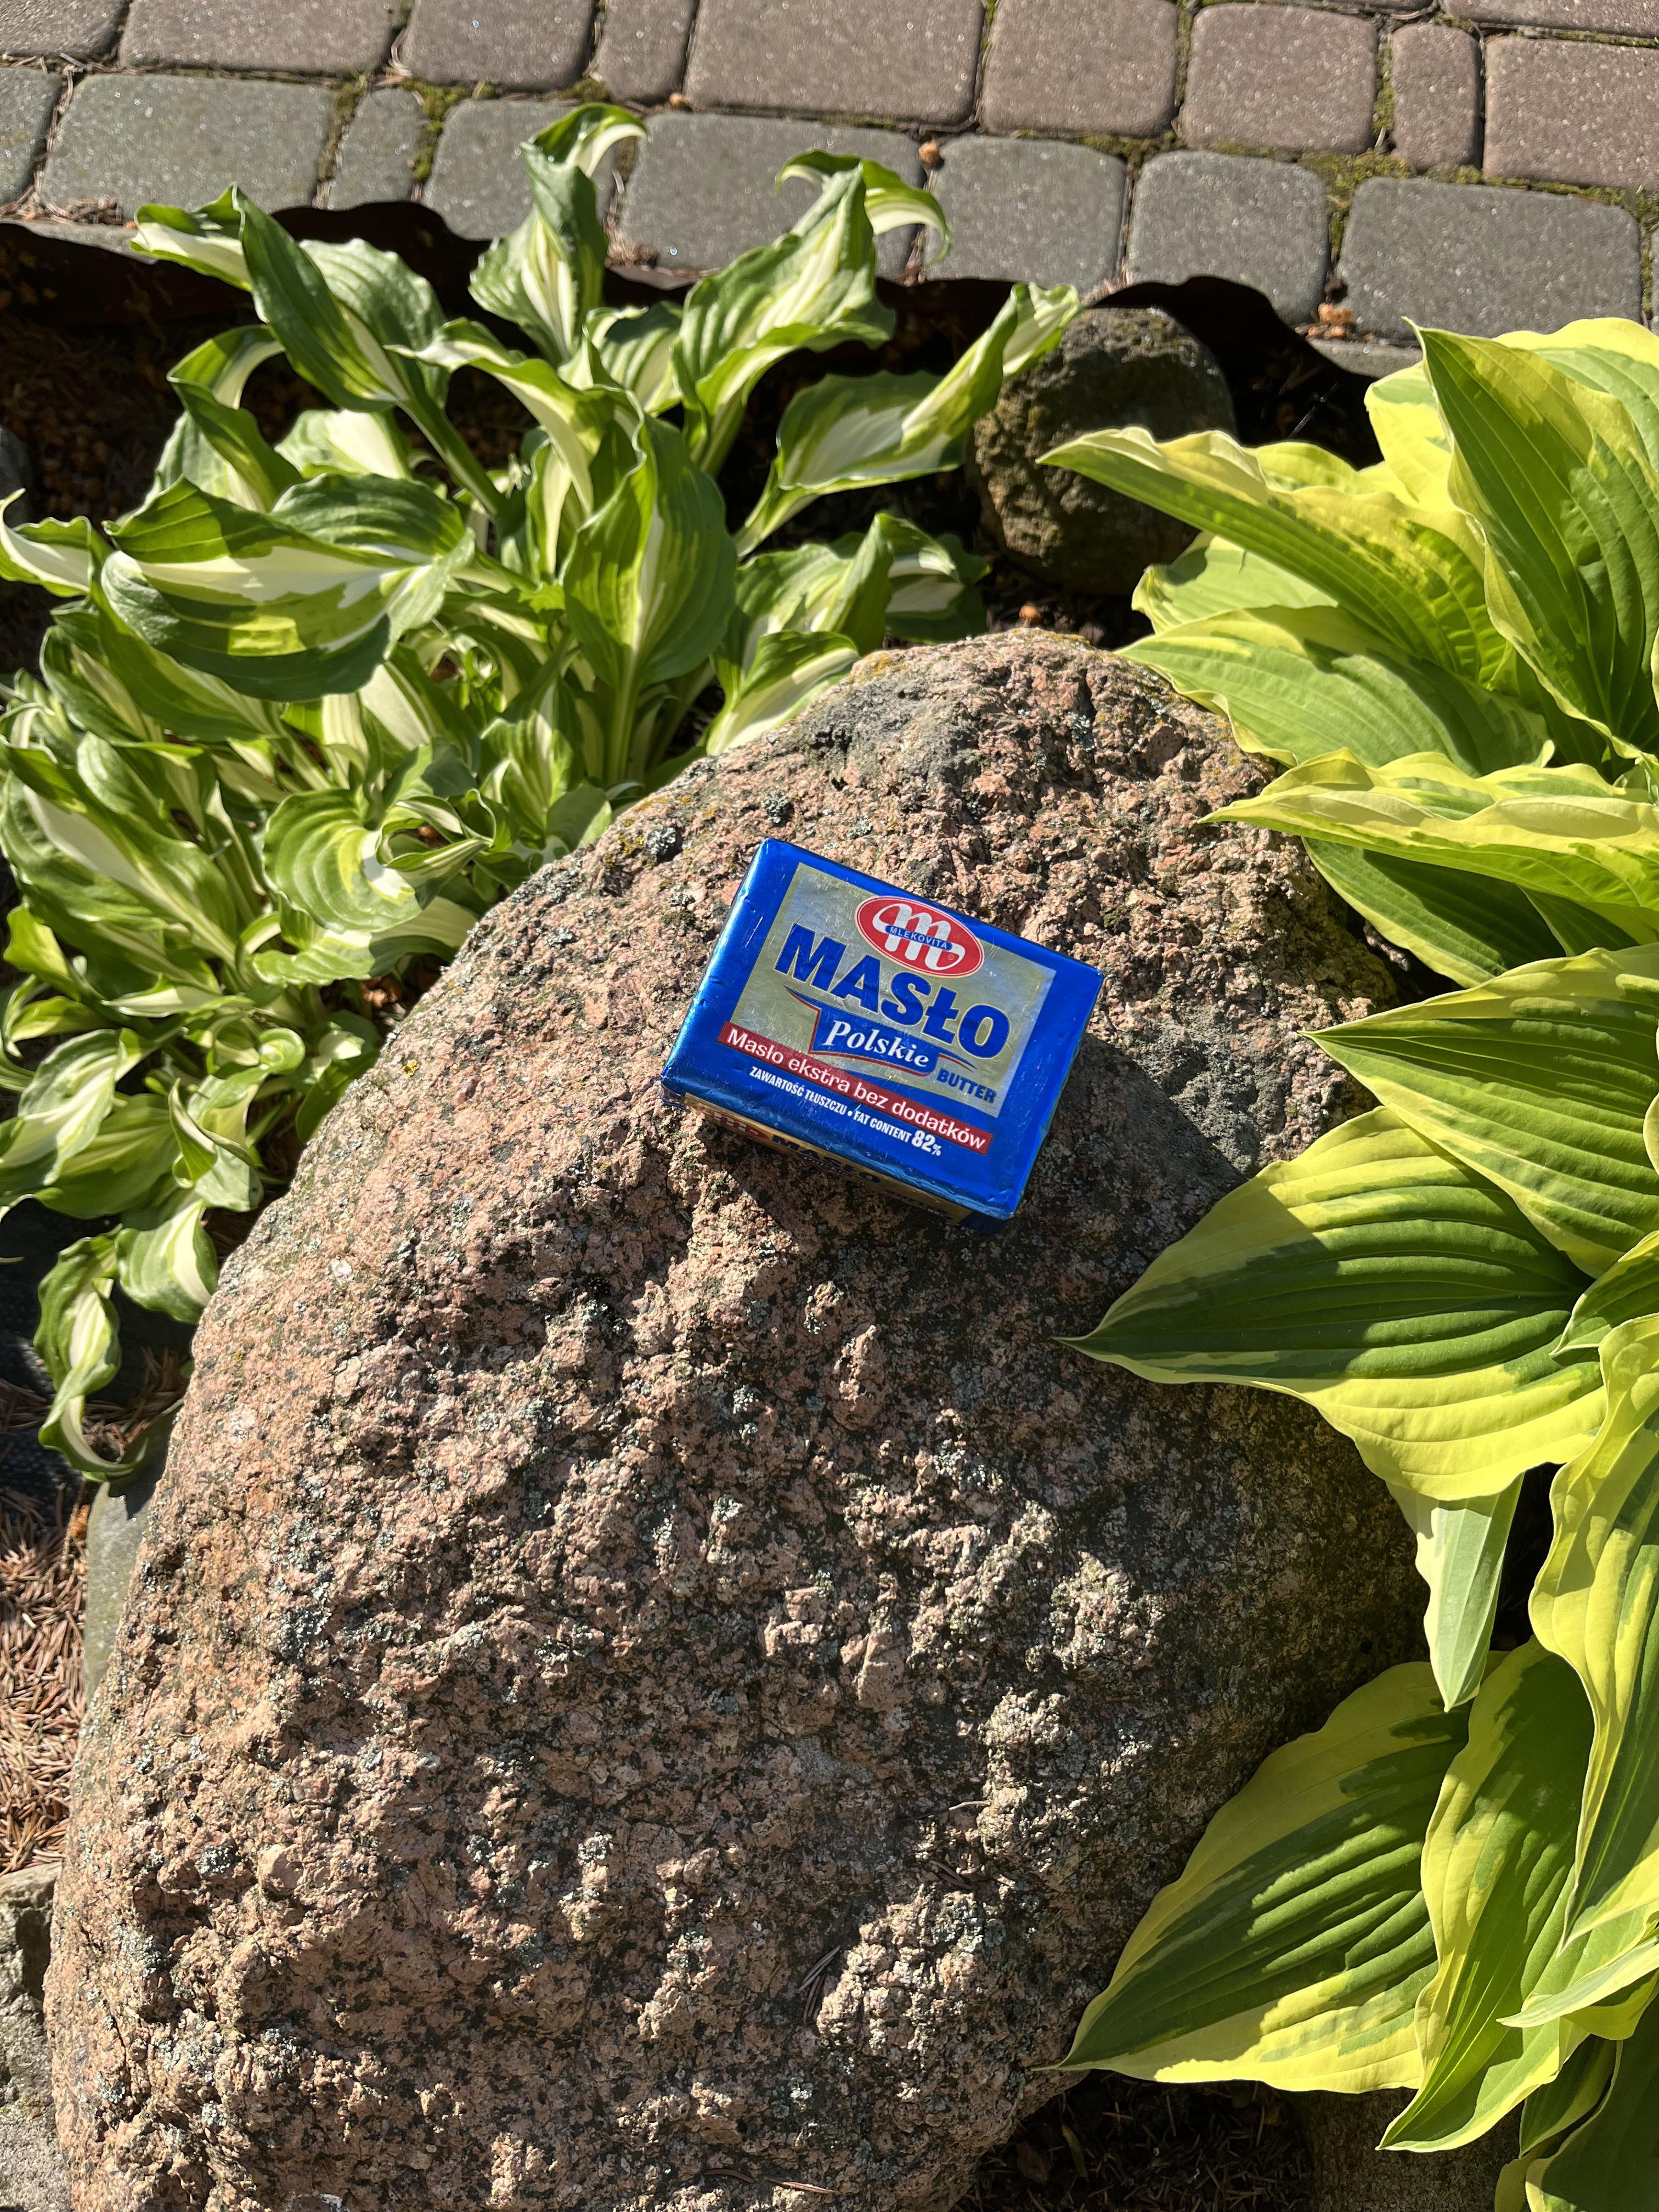Butter: (669, 826, 1110, 1221)
